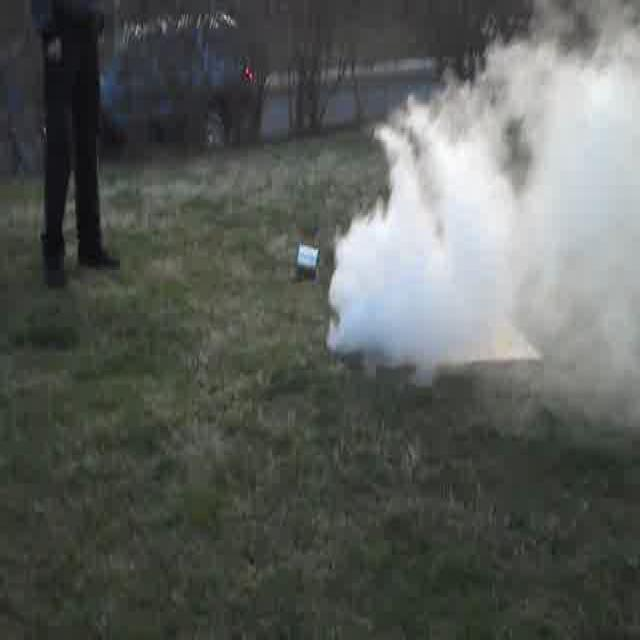Smoke: (355, 117, 623, 346)
